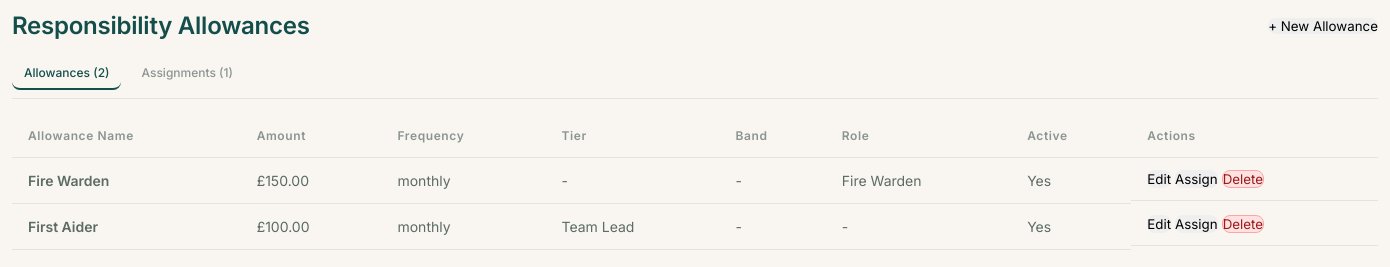
Scenario: ResponsibilityAllowanceManager › renders assignments tab with data
This screenshot has width=1390, height=267.
Click the button "Assignments (1)": click(187, 73) [130, 57, 245, 90]
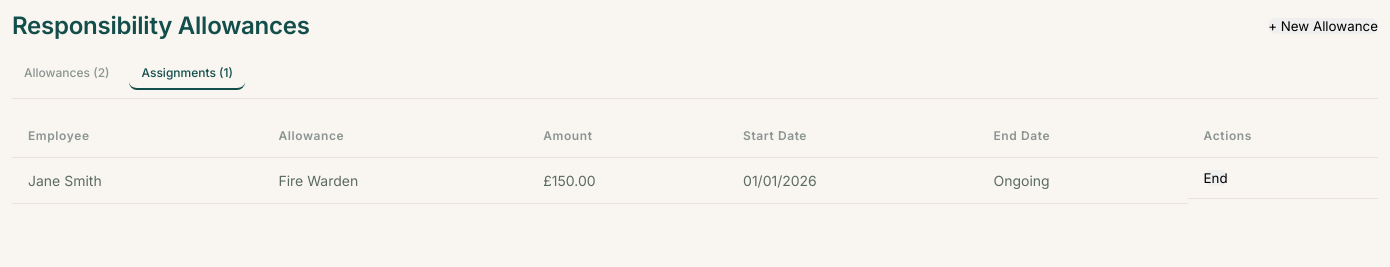
expect the text "Jane Smith" is shown: met, box [12, 157, 262, 203]
expect the text "Ongoing" is shown: met, box [978, 157, 1188, 203]
